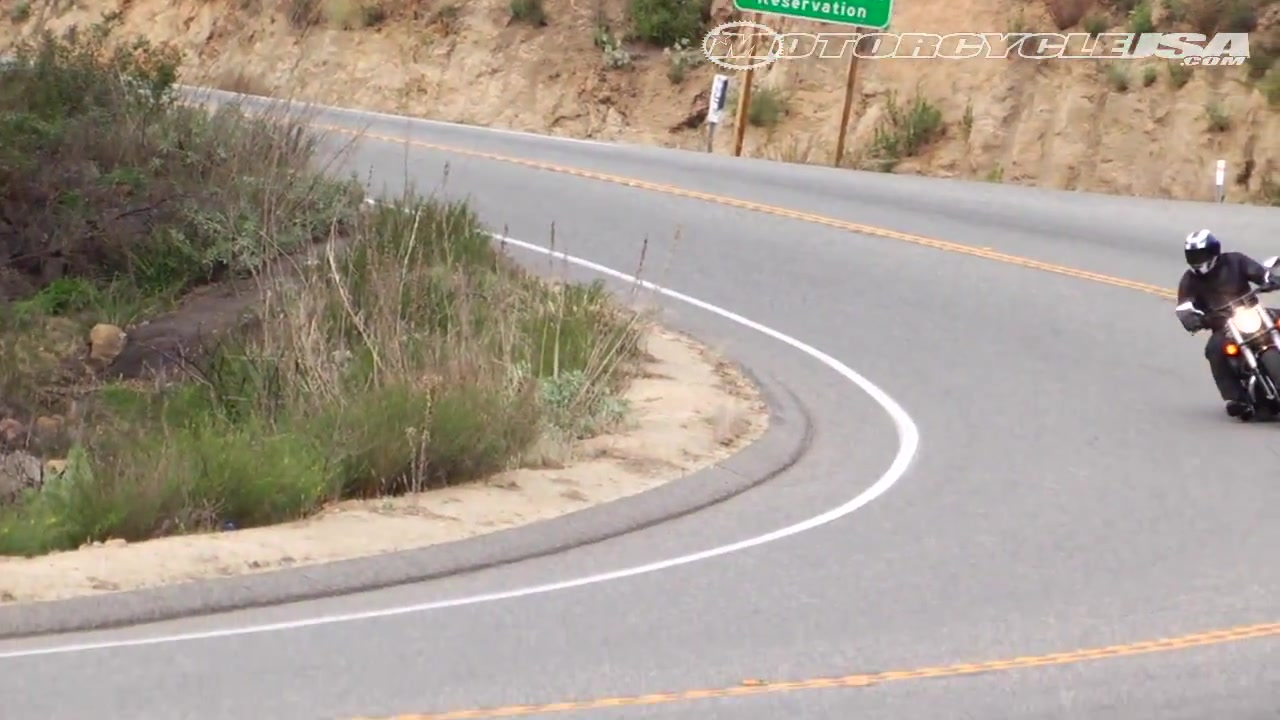motorbike: (1180, 258, 1280, 430)
